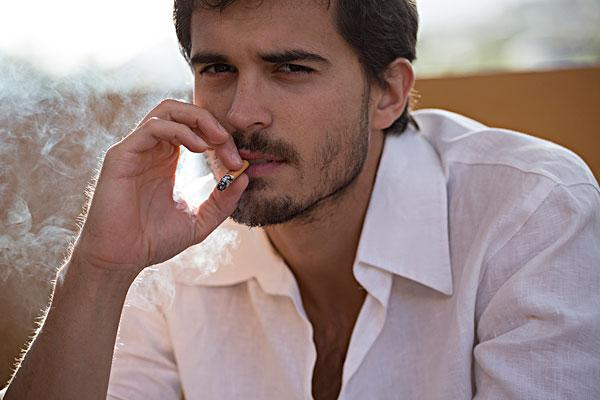smoke: (215, 151, 254, 193)
